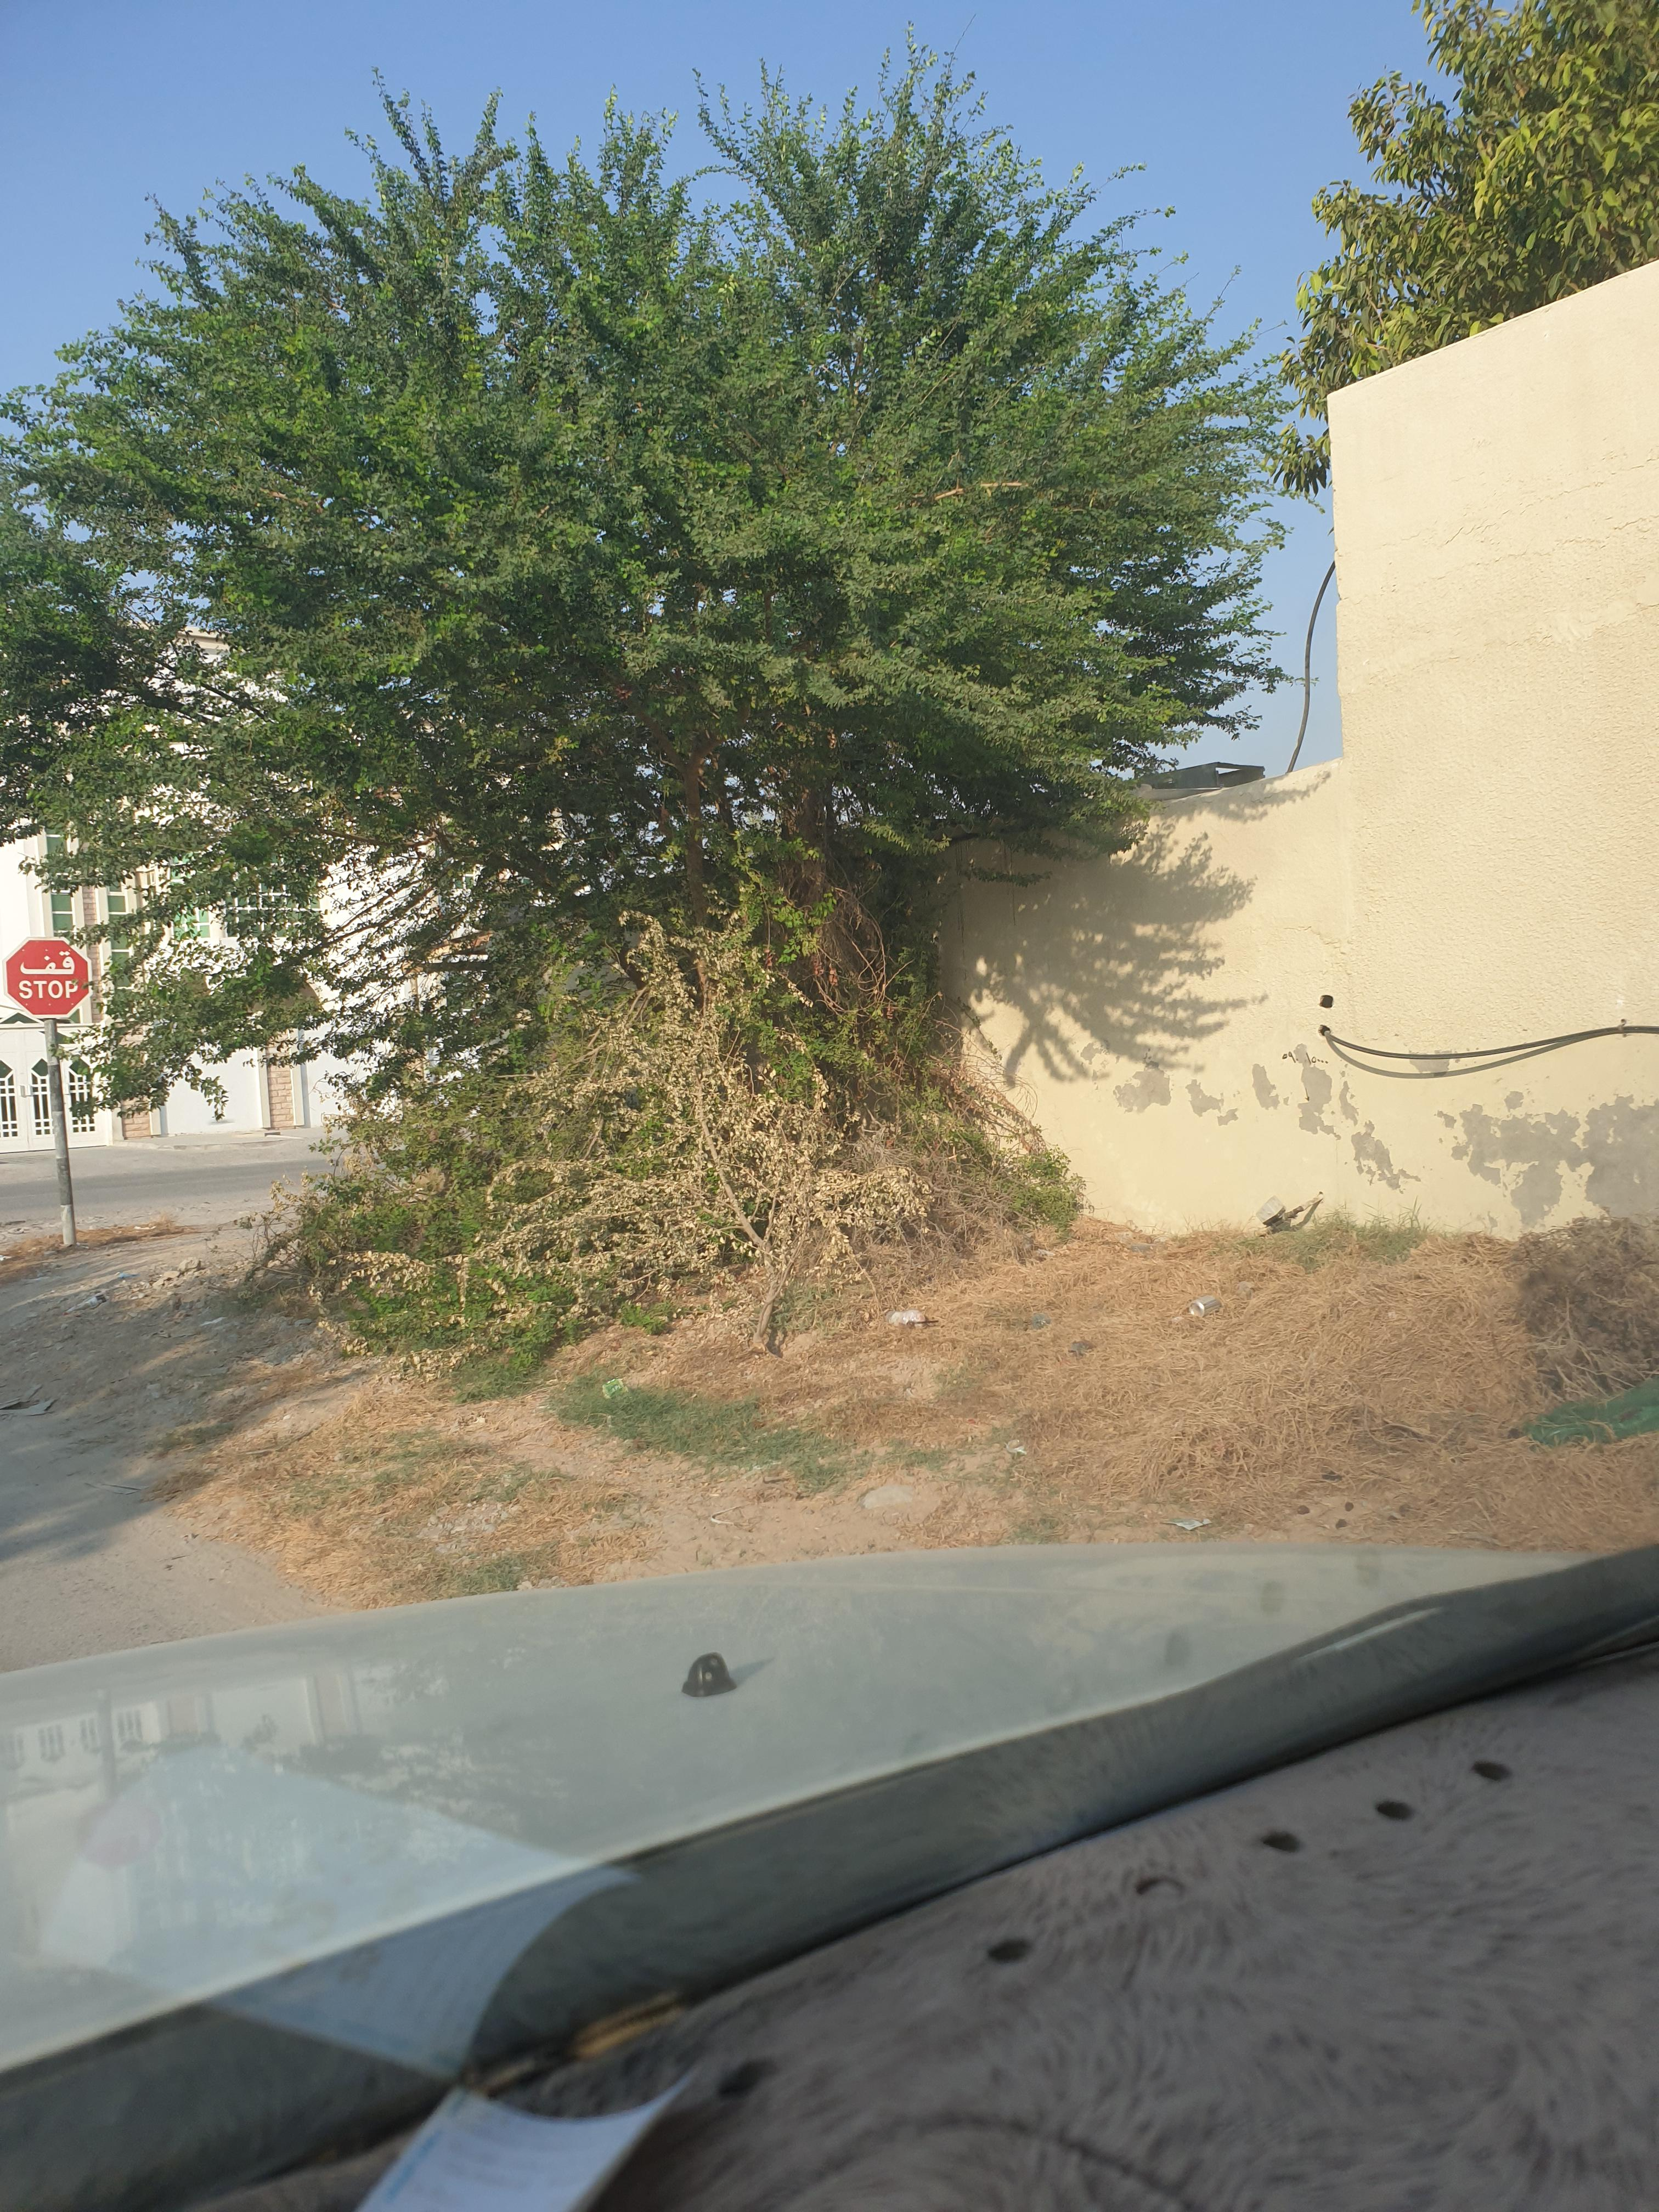fallen_trees: (416, 1174, 1154, 1447)
